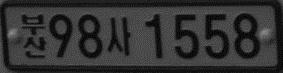1: (142, 13, 169, 58)
5: (174, 13, 199, 59), (204, 13, 229, 58)
8: (233, 12, 261, 59), (76, 14, 103, 58)
9: (47, 13, 73, 58)
부산_V: (20, 12, 47, 59)
사: (106, 17, 132, 56)
